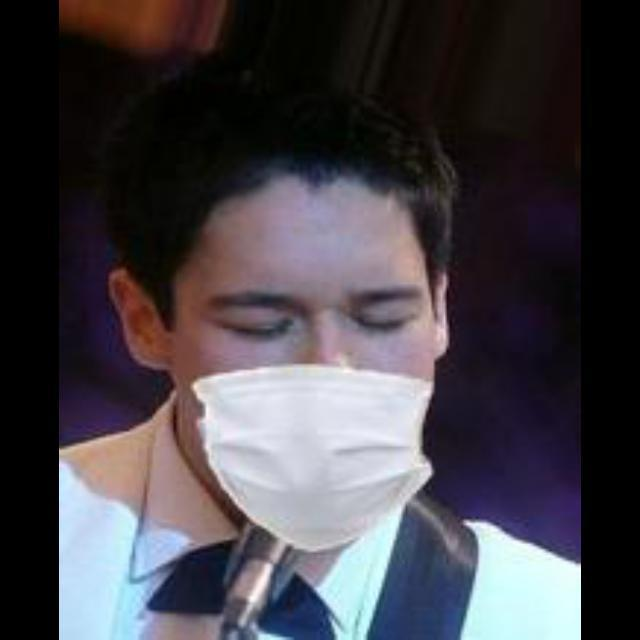suspicion: (140, 82, 482, 540)
